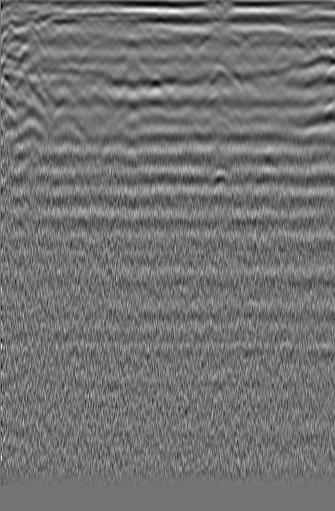가스: (204, 159, 235, 186)
상수: (18, 20, 48, 57)
오수: (266, 39, 296, 63)
우수: (147, 24, 176, 55)
